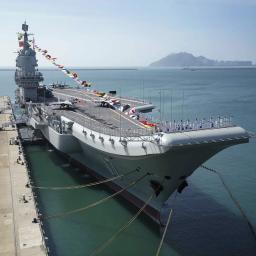Portanaves: (12, 16, 254, 226)
